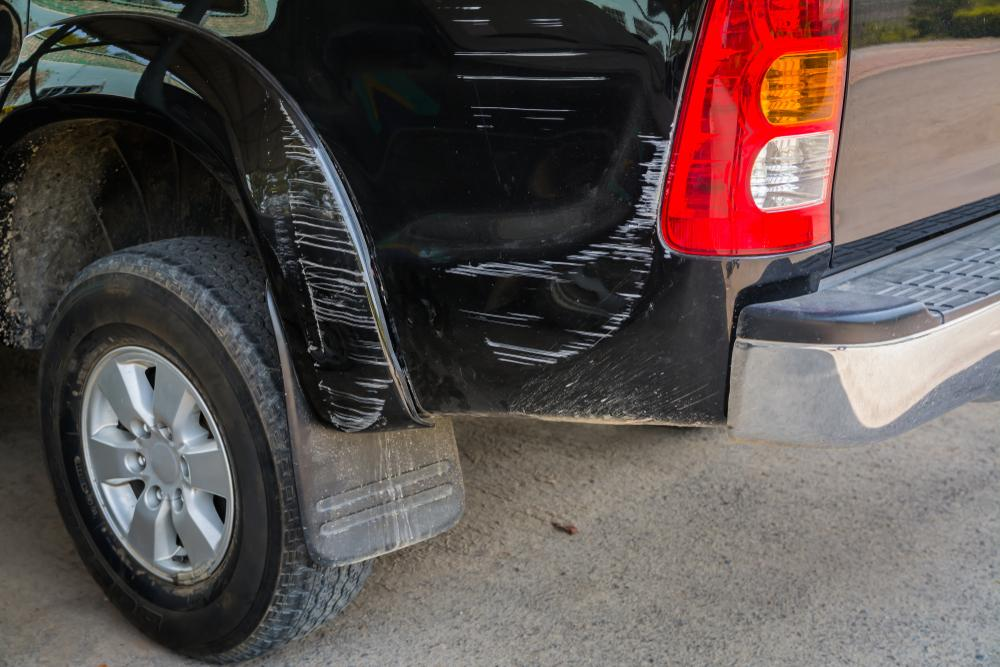scratch: (443, 127, 675, 367), (247, 101, 395, 435), (441, 0, 607, 160)
